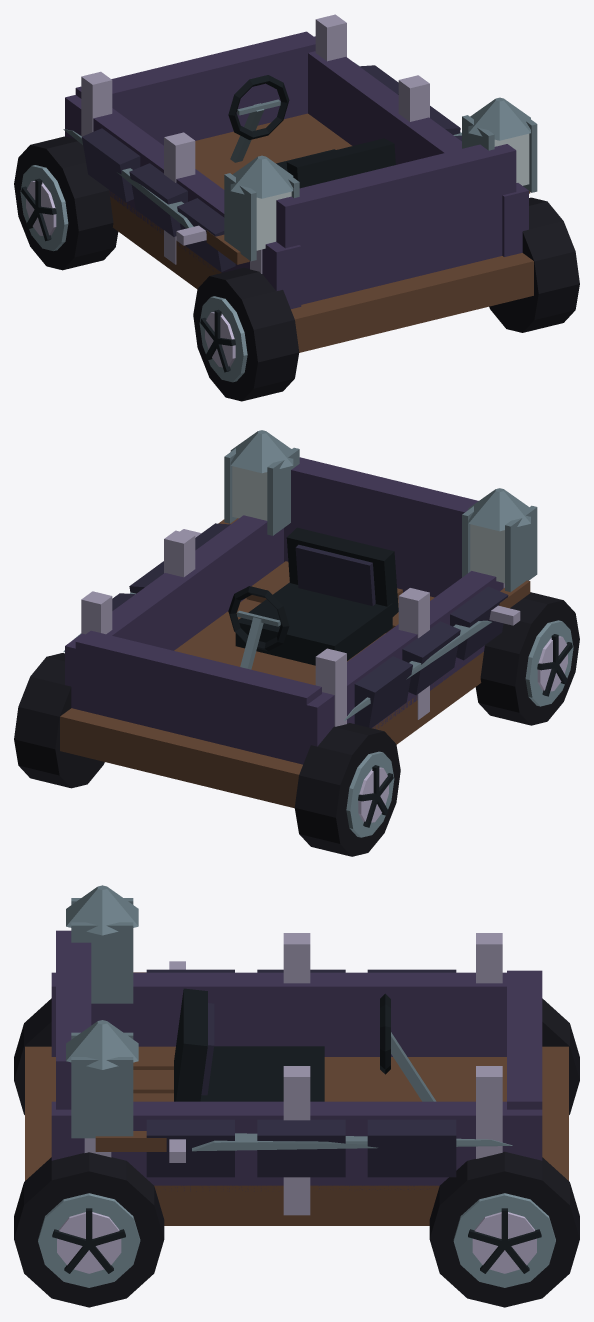
The model's file is kart.glb.
3 renders of one model, top to bottom at view 1: azimuth 30°, elevation 25°; view 2: azimuth 150°, elevation 25°; view 3: azimuth 270°, elevation 25°, orthographic. The views are drawn at different scales.
Parts seen in each view (by area): view 1: identity-wagon-wagon-timber-coach, wheel-rear-left, wheel-front-left, identity-wagon-motif-lanterns, identity-wagon-motif-armor, wheel-rear-right, identity-wagon-driver-cockpit, identity-wagon-motif-swords; view 2: identity-wagon-wagon-timber-coach, identity-wagon-driver-cockpit, identity-wagon-motif-lanterns, wheel-front-left, wheel-rear-left, identity-wagon-motif-armor, wheel-front-right, identity-wagon-motif-swords; view 3: identity-wagon-wagon-timber-coach, wheel-rear-right, wheel-front-right, identity-wagon-motif-armor, identity-wagon-motif-lanterns, identity-wagon-driver-cockpit, identity-wagon-motif-swords, wheel-front-left, wheel-rear-left.
Boxes of the visible parts, x1=… form: identity-wagon-wagon-timber-coach: x1=65, y1=14, x2=533, y2=352; wheel-rear-left: x1=193, y1=267, x2=299, y2=401; wheel-front-left: x1=14, y1=136, x2=118, y2=270; identity-wagon-motif-lanterns: x1=224, y1=97, x2=537, y2=261; identity-wagon-motif-armor: x1=81, y1=65, x2=461, y2=271; wheel-rear-right: x1=489, y1=197, x2=579, y2=332; identity-wagon-driver-cockpit: x1=228, y1=75, x2=395, y2=188; identity-wagon-motif-swords: x1=63, y1=62, x2=530, y2=264; identity-wagon-wagon-timber-coach: x1=60, y1=457, x2=504, y2=808; identity-wagon-driver-cockpit: x1=228, y1=527, x2=398, y2=669; identity-wagon-motif-lanterns: x1=224, y1=430, x2=537, y2=592; wheel-front-left: x1=294, y1=723, x2=400, y2=856; wheel-rear-left: x1=475, y1=592, x2=579, y2=725; identity-wagon-motif-armor: x1=112, y1=523, x2=508, y2=727; wheel-front-right: x1=14, y1=653, x2=104, y2=788; identity-wagon-motif-swords: x1=63, y1=518, x2=530, y2=720; identity-wagon-wagon-timber-coach: x1=25, y1=930, x2=568, y2=1225; wheel-rear-right: x1=14, y1=1152, x2=164, y2=1307; wheel-front-right: x1=429, y1=1151, x2=579, y2=1307; identity-wagon-motif-armor: x1=146, y1=969, x2=456, y2=1177; identity-wagon-motif-lanterns: x1=66, y1=885, x2=138, y2=1138; identity-wagon-driver-cockpit: x1=174, y1=988, x2=436, y2=1101; identity-wagon-motif-swords: x1=95, y1=961, x2=512, y2=1162; wheel-front-left: x1=542, y1=998, x2=579, y2=1114; wheel-rear-left: x1=14, y1=998, x2=51, y2=1114.
Size of the model in its own units: 2.07 by 1.3 by 2.56.
